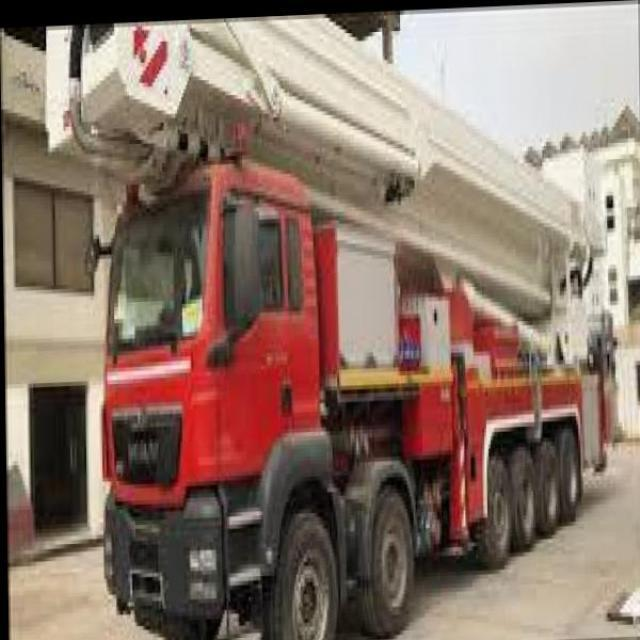emergency: (85, 149, 620, 639)
